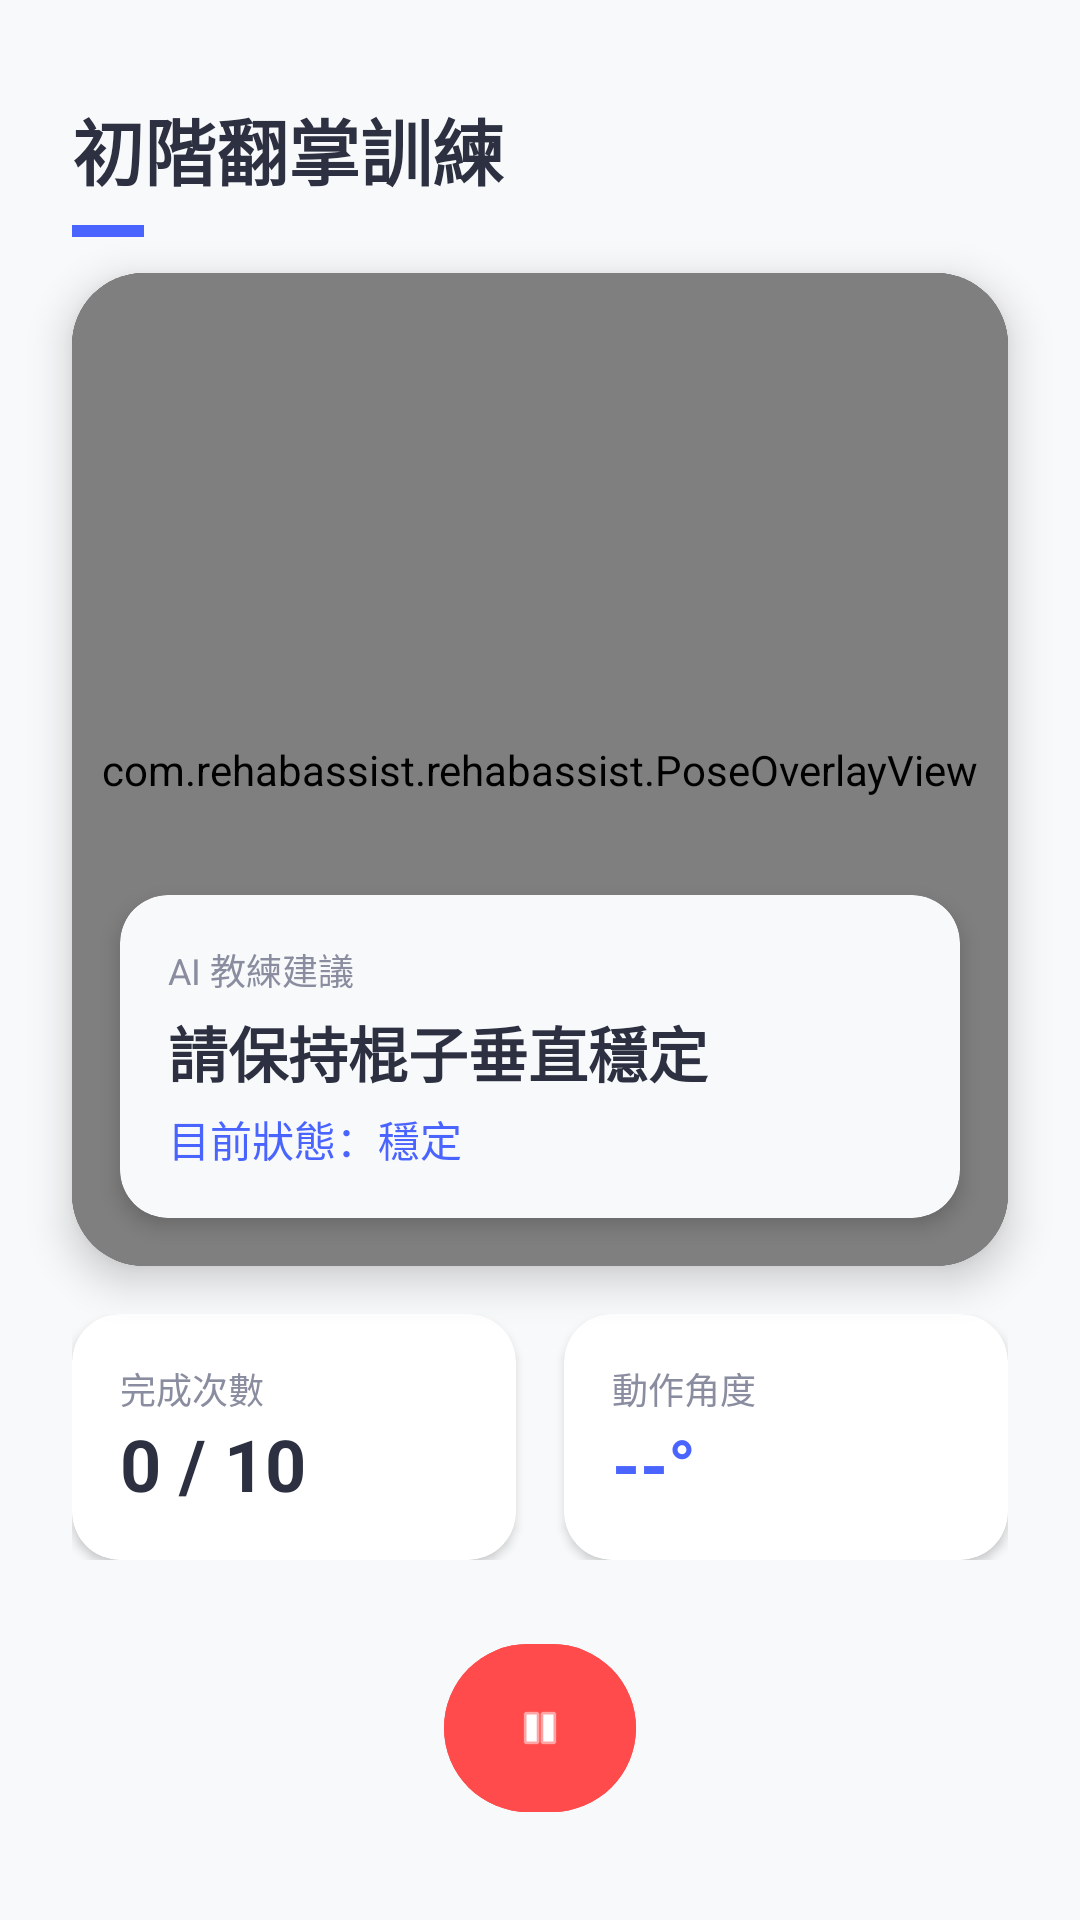

Where to tap for icons on this 1080 x 1920 app screen, as (x=x, y=y):
停止訓練: (x=540, y=1728)
